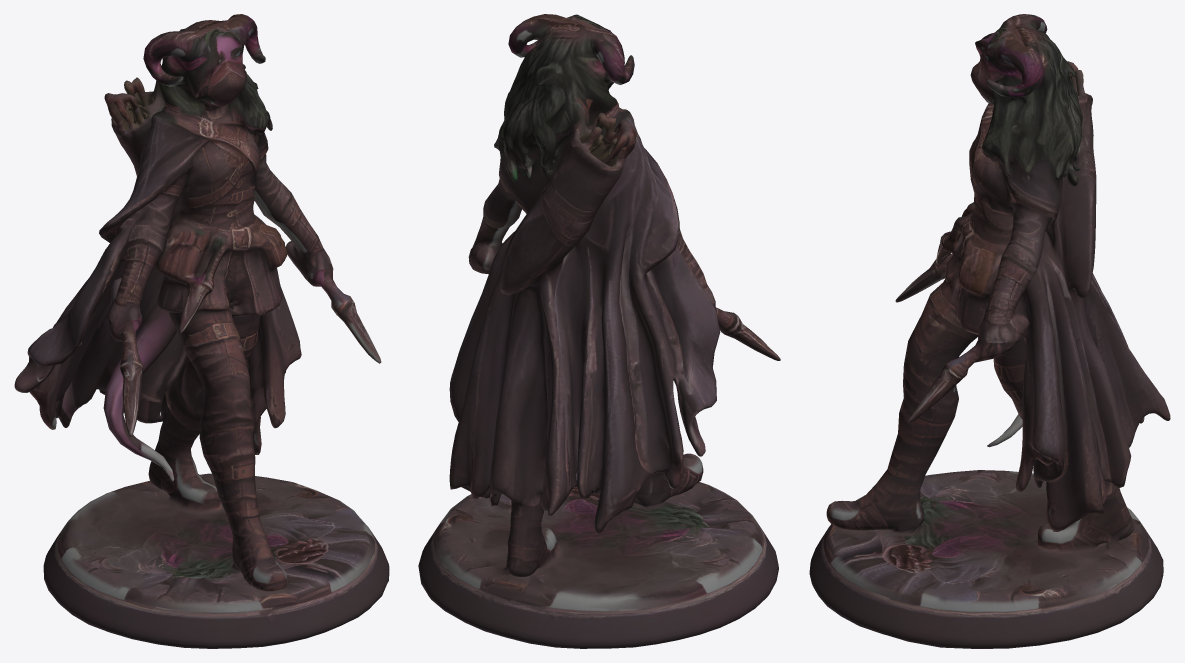
Rendered from tieffelindechacha.glb.
3 views of the same model, side by side, from view 1: azimuth 30°, elevation 25°; view 2: azimuth 150°, elevation 25°; view 3: azimuth 270°, elevation 25° (orthographic). The views are drawn at different scales.
Visible parts, largest first — view 1: tripo_node_0484dc8e; view 2: tripo_node_0484dc8e; view 3: tripo_node_0484dc8e.
Boxes of the visible parts, x1,y1,x2,y2 form: tripo_node_0484dc8e: [14, 14, 389, 648]; tripo_node_0484dc8e: [418, 14, 780, 648]; tripo_node_0484dc8e: [809, 14, 1170, 648].
Size of the model in its own units: 58.02 by 99.76 by 59.14.
Materials: 1 (1 with a texture image).
